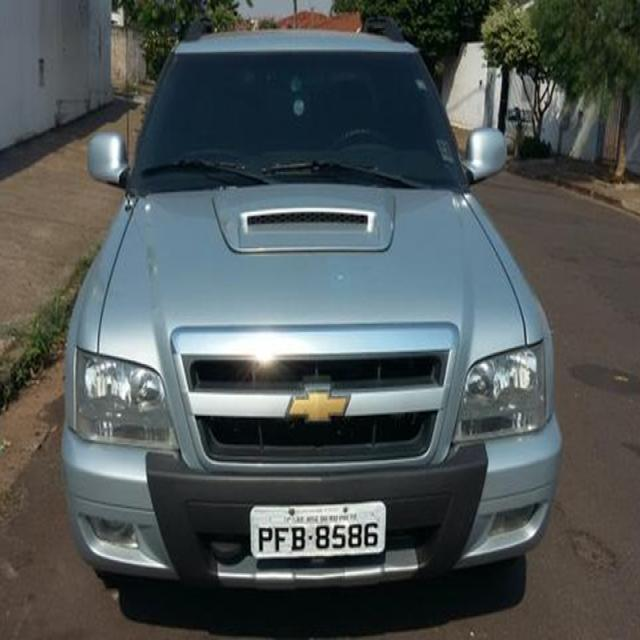Placa: (248, 500, 390, 561)
